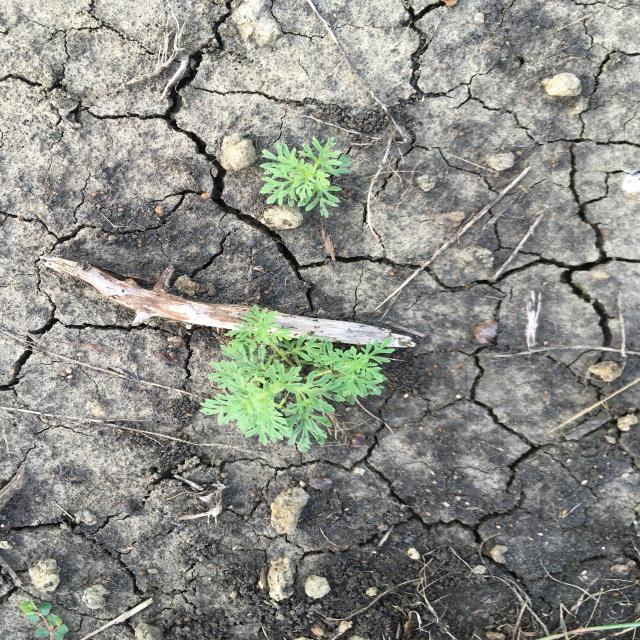Ragweed: (198, 303, 397, 454), (258, 133, 356, 220)
SpottedSpurge: (18, 599, 71, 639)
